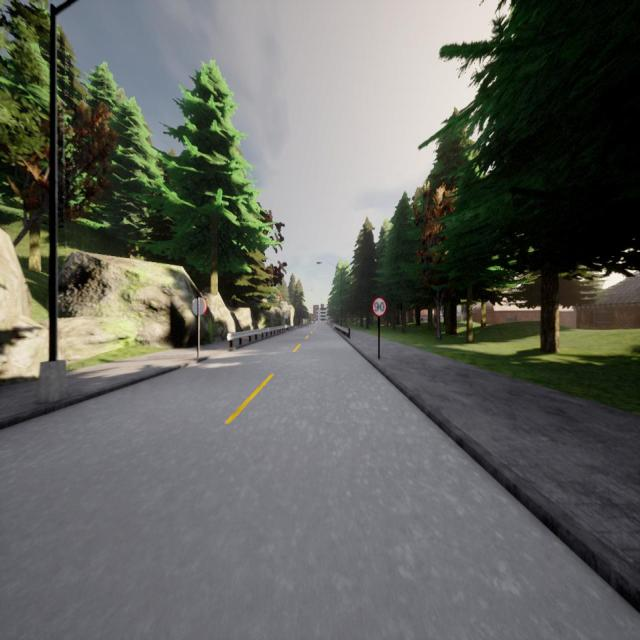Traffic_Signs: (371, 297, 387, 317), (192, 298, 207, 318)
